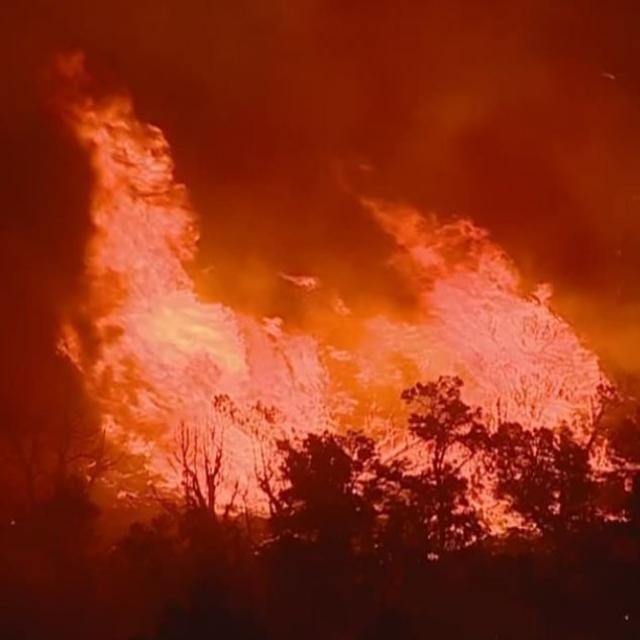Fire: (59, 115, 604, 538)
Smoke: (196, 0, 630, 309), (0, 0, 192, 112)
